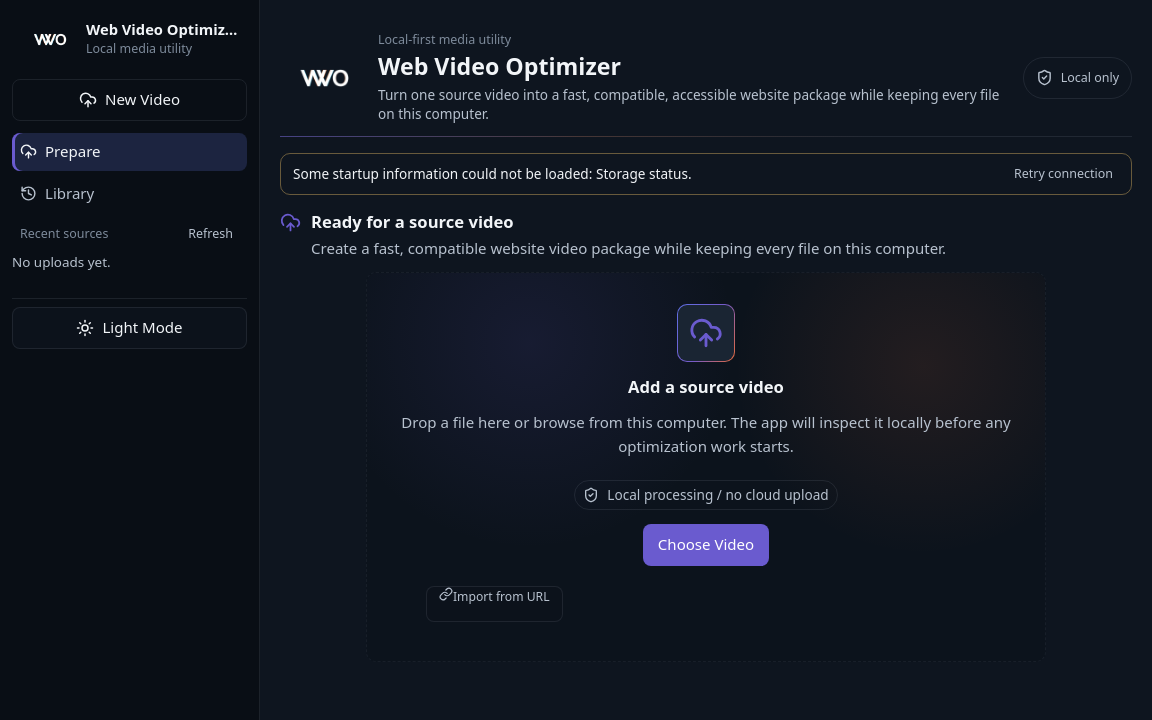
Test: App behavior › keeps usable startup with a partial bootstrap warning and clears it after retry
This screenshot has width=1152, height=720.
Check: the heading "Ready for a source video" is shown, box [311,210,514,233]
Check: the message shows "Storage status", box [596,164,688,183]
What coordinates should you click on to do the following:
click the button "Retry connection"
I would click on:
 (1064, 174)
Its box is [1008,164,1119,184].
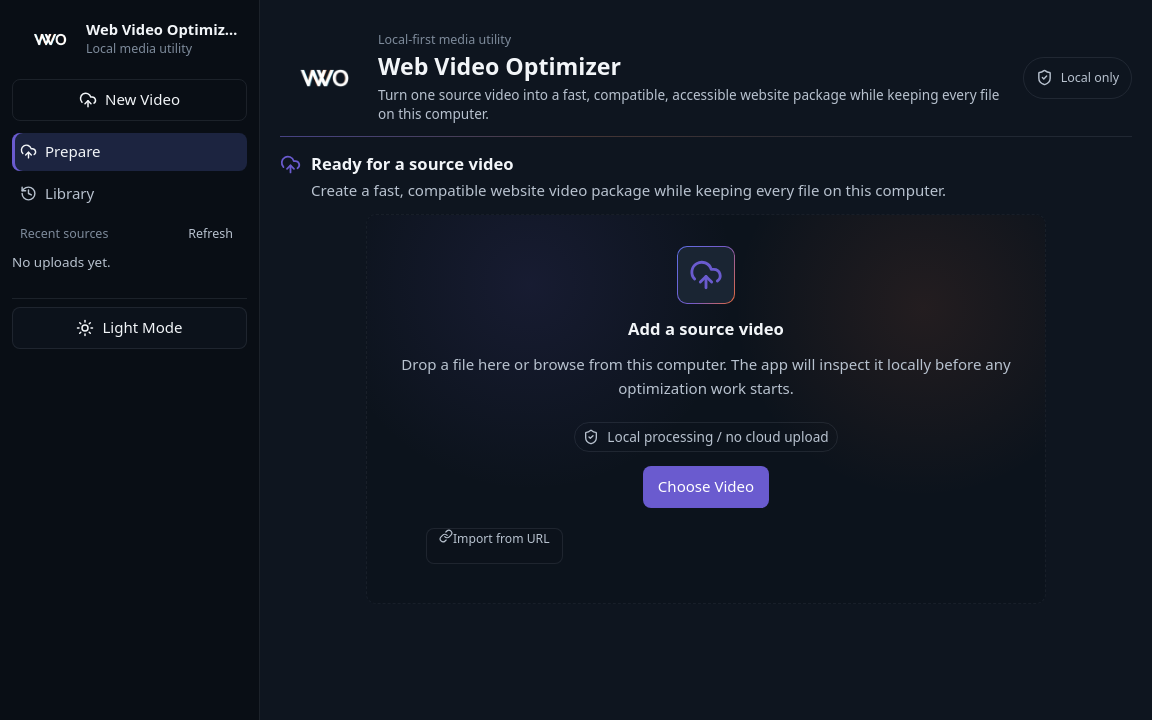
Check: the message "Some startup information could not be loaded: Storage status. Retry connection" is gone
